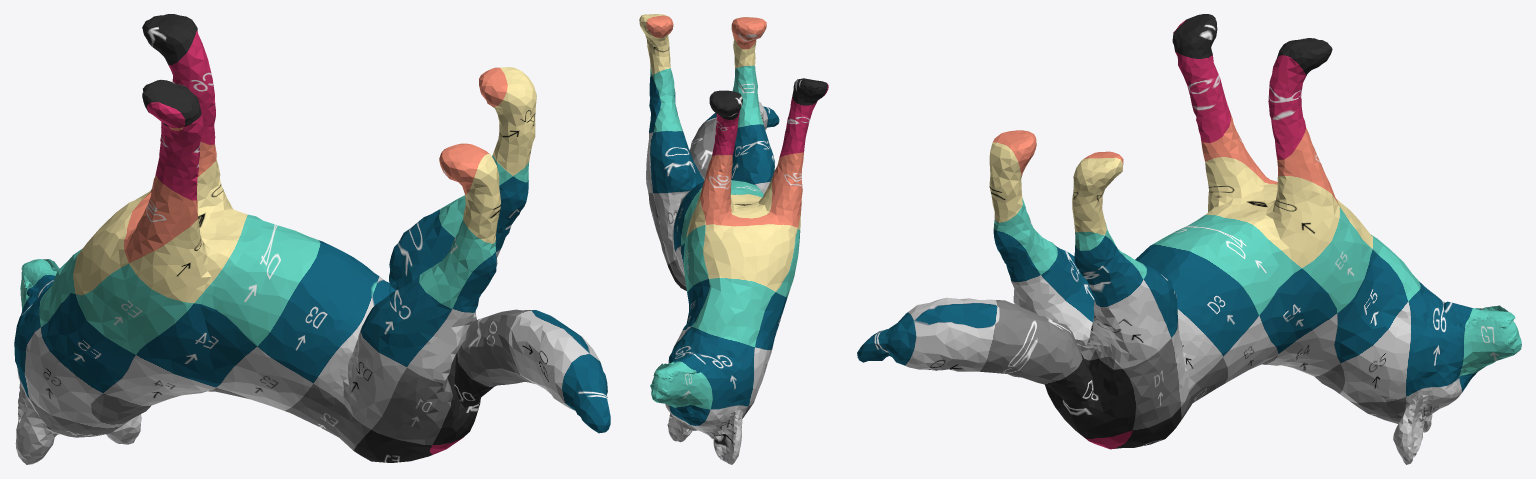
Rendered from horse_08-dog_01.obj.
3 views of the same model, side by side, from view 1: azimuth 30°, elevation 25°; view 2: azimuth 150°, elevation 25°; view 3: azimuth 270°, elevation 25° (orthographic). The views are drawn at different scales.
Parts seen in each view (by area): view 1: horse_08-dog_01_export; view 2: horse_08-dog_01_export; view 3: horse_08-dog_01_export.
Boxes of the visible parts, x1,y1,x2,y2 form: horse_08-dog_01_export: (14,14,610,464); horse_08-dog_01_export: (639,14,828,464); horse_08-dog_01_export: (857,14,1521,464).
Size of the model in its own units: 0.5287 by 0.7141 by 1.03.
